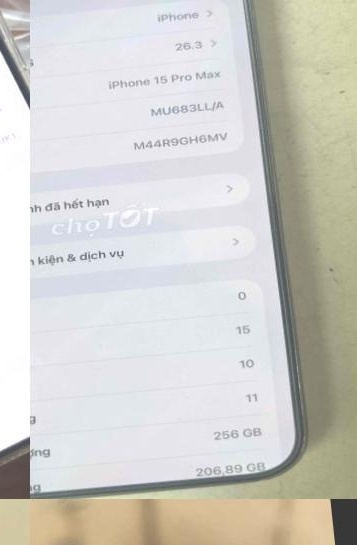scratch: (288, 359, 308, 392), (291, 429, 314, 456)
